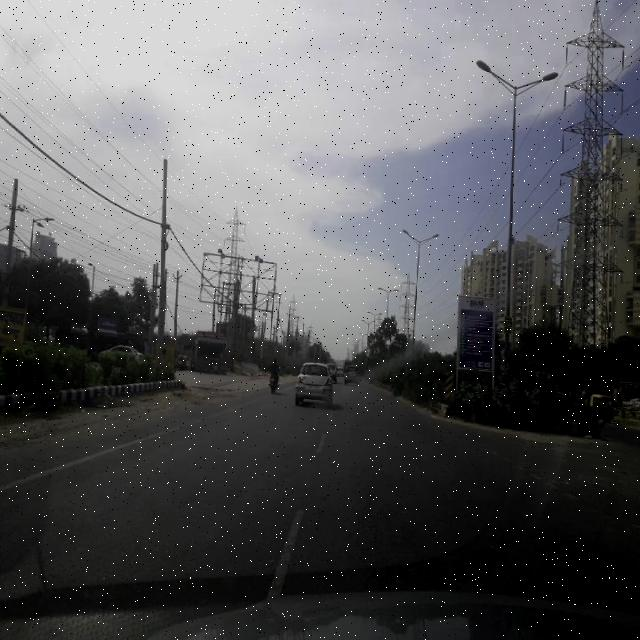D20: (0, 432, 559, 593)
